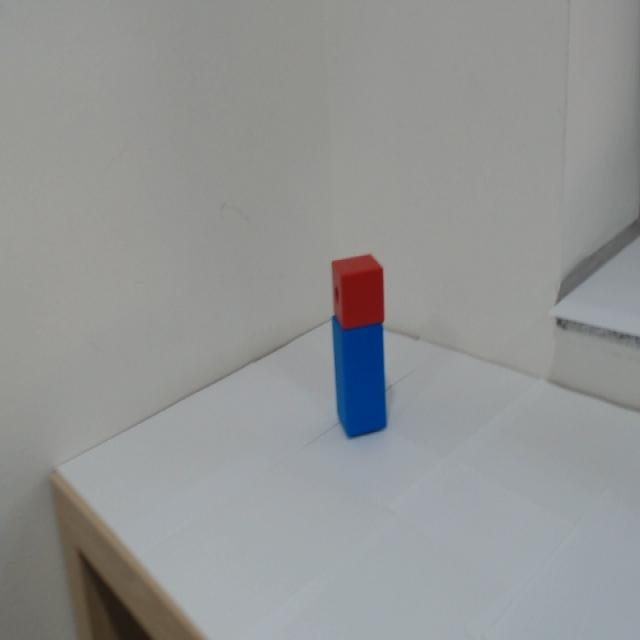cube: (326, 321, 399, 445), (333, 245, 410, 345)
